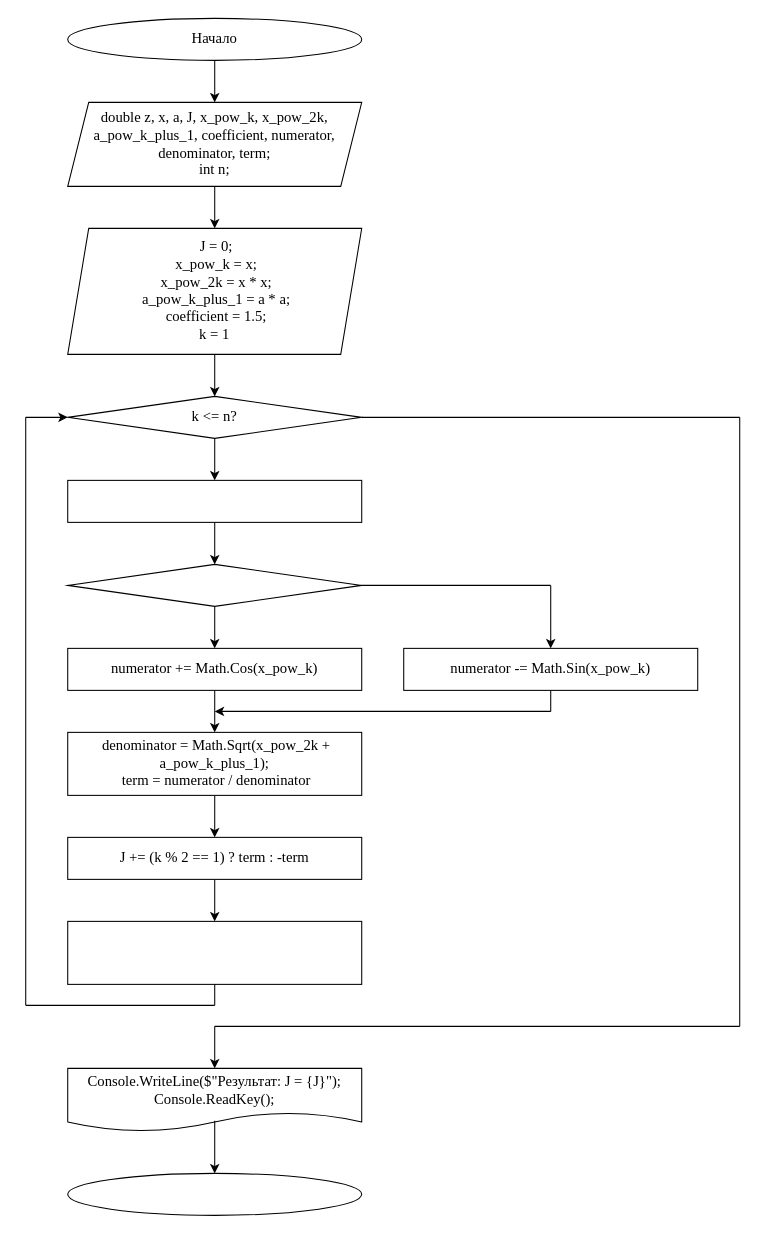
The diagram is 759 pixels wide and 1234 high, and some of its shapes have lost their labels. Here are the shapes that lost their labels. From the top down, the centre of each, then its label:
At point 214,500: "numerator = coefficient * z;".
At point 214,584: "k % 2 == 1?".
At point 214,952: "x_pow_k *= x; x_pow_2k *= x * x; a_pow_k_plus_1 *= a; coefficient += 0.2;".
At point 214,1193: "Вывод".
